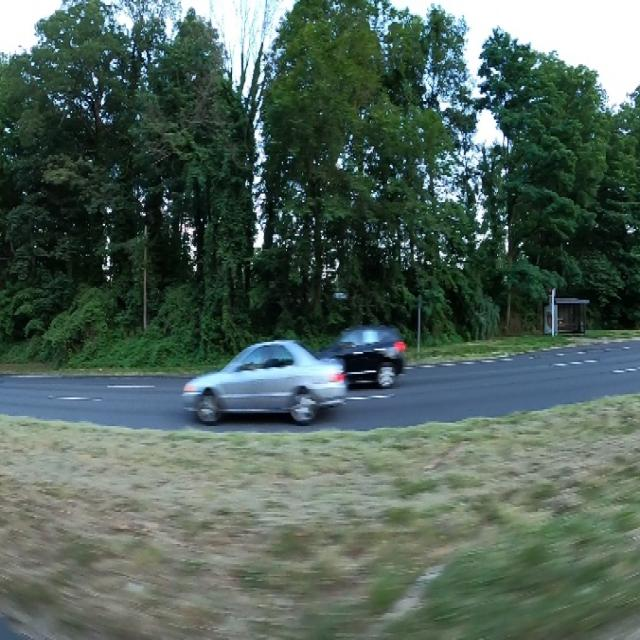cars: (184, 336, 350, 431), (308, 320, 407, 392)
